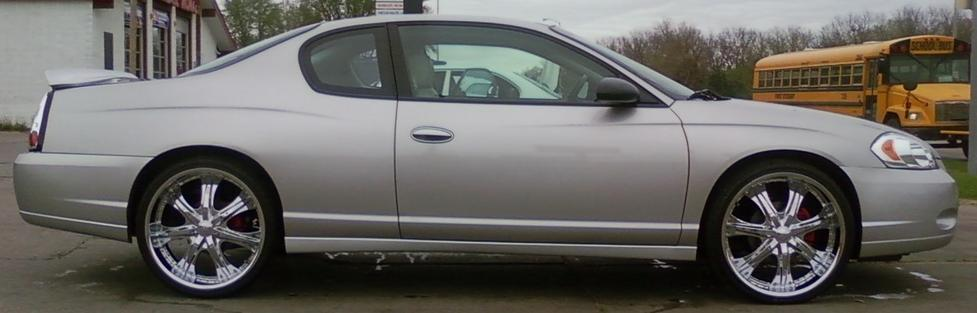backlight: (22, 90, 51, 150)
headlight: (857, 124, 942, 181)
side_glass: (317, 17, 664, 107)
